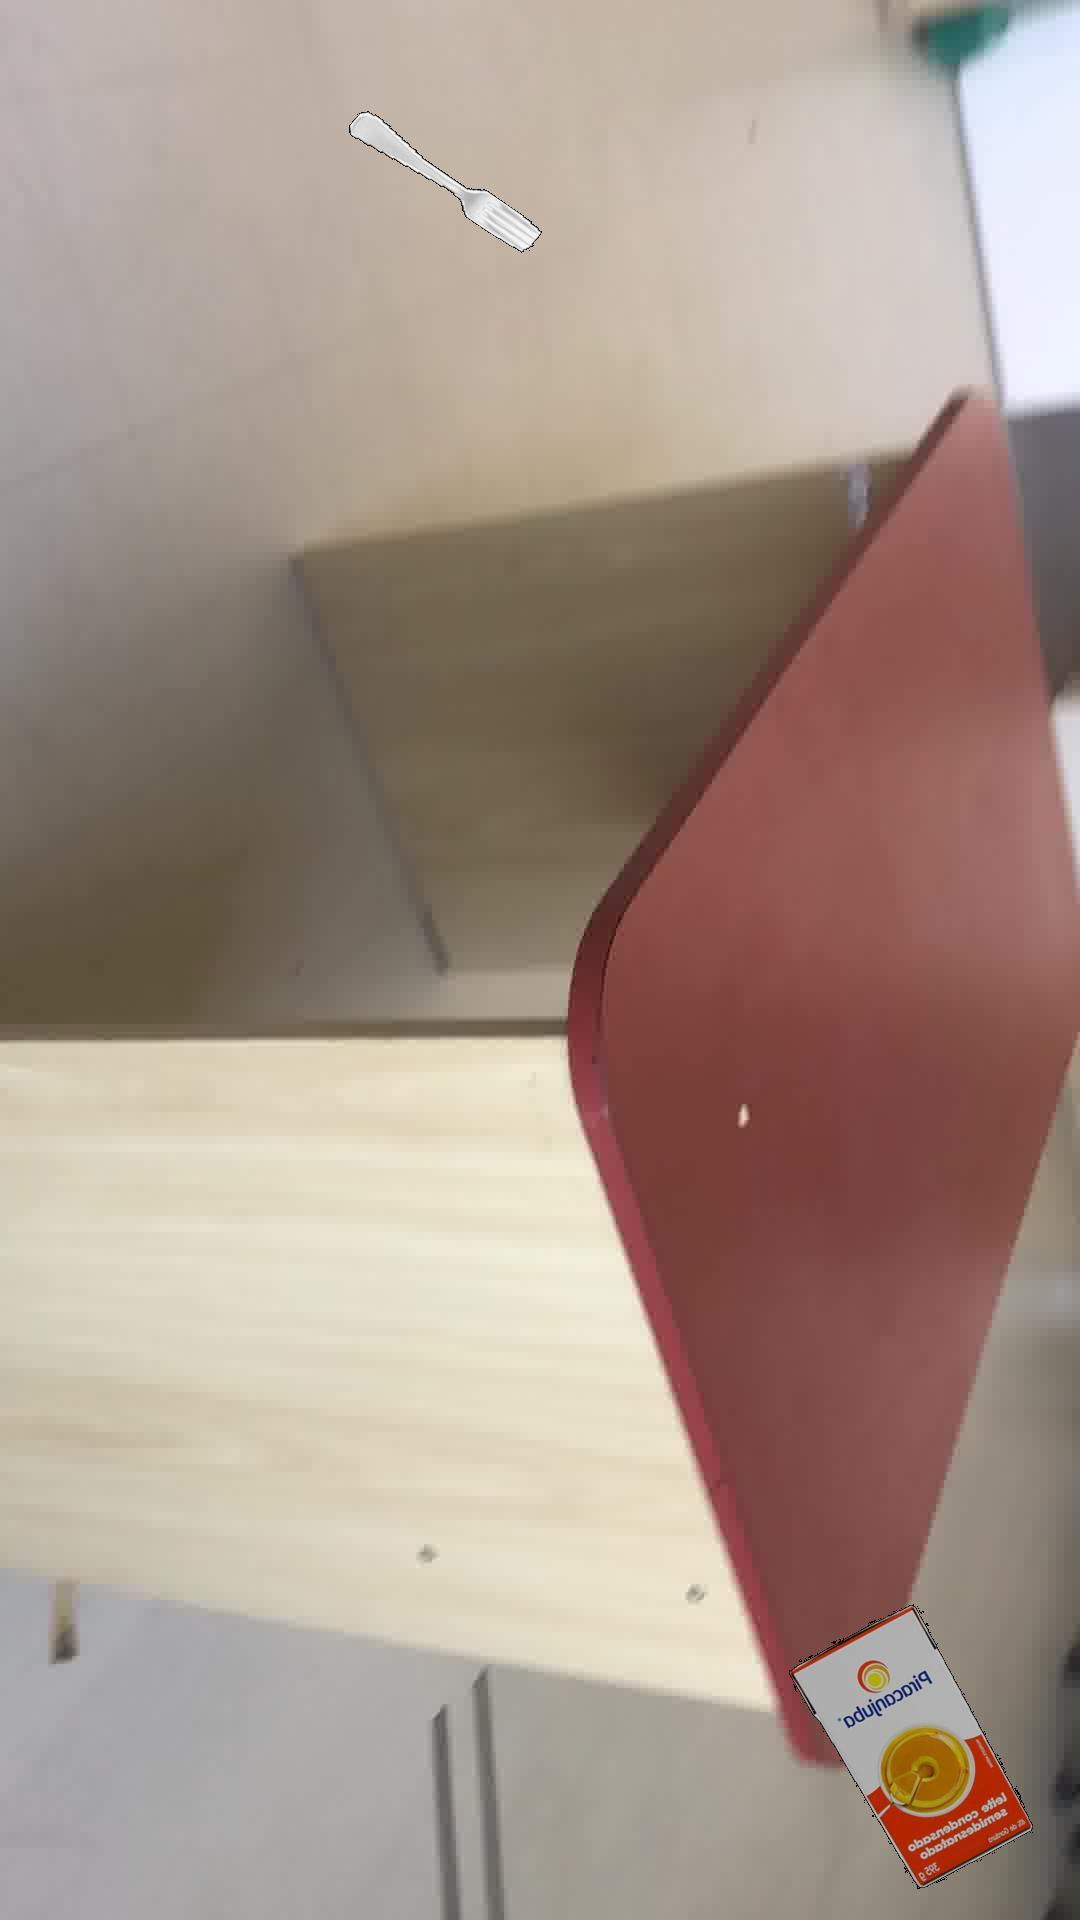fork: (348, 109, 541, 252)
